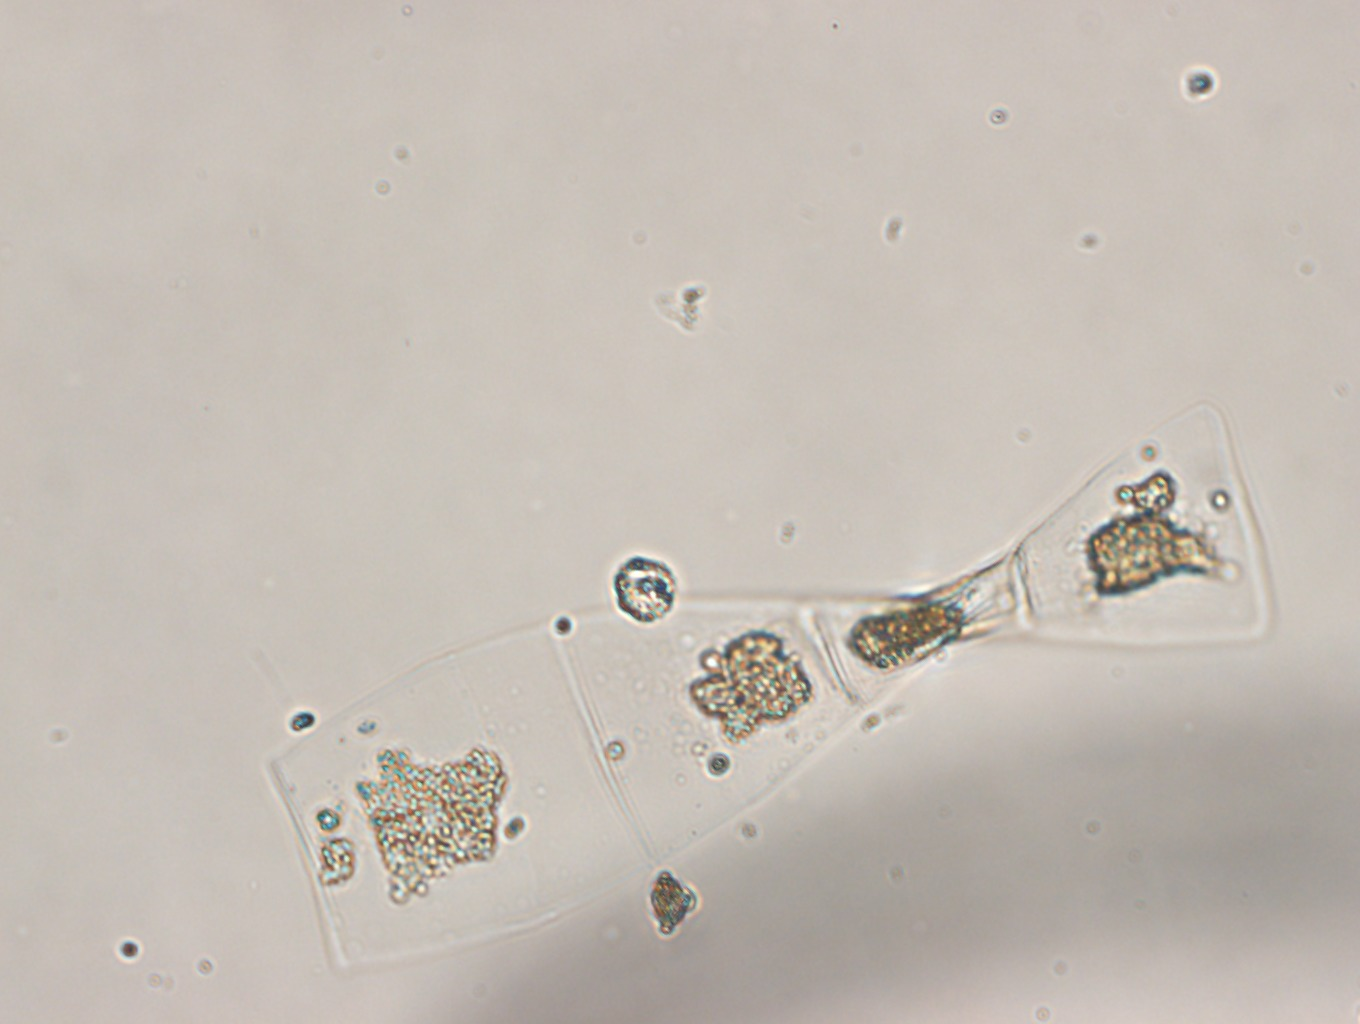helicotheca: (266, 403, 1277, 981)
